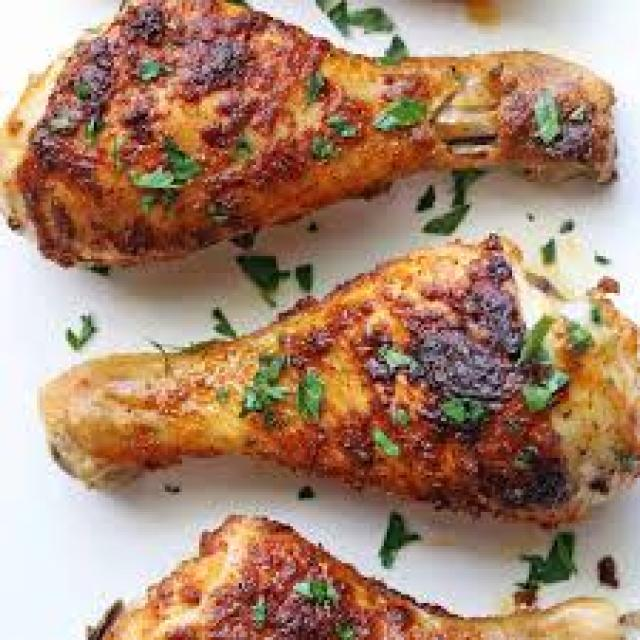Frango: (5, 8, 640, 640)
